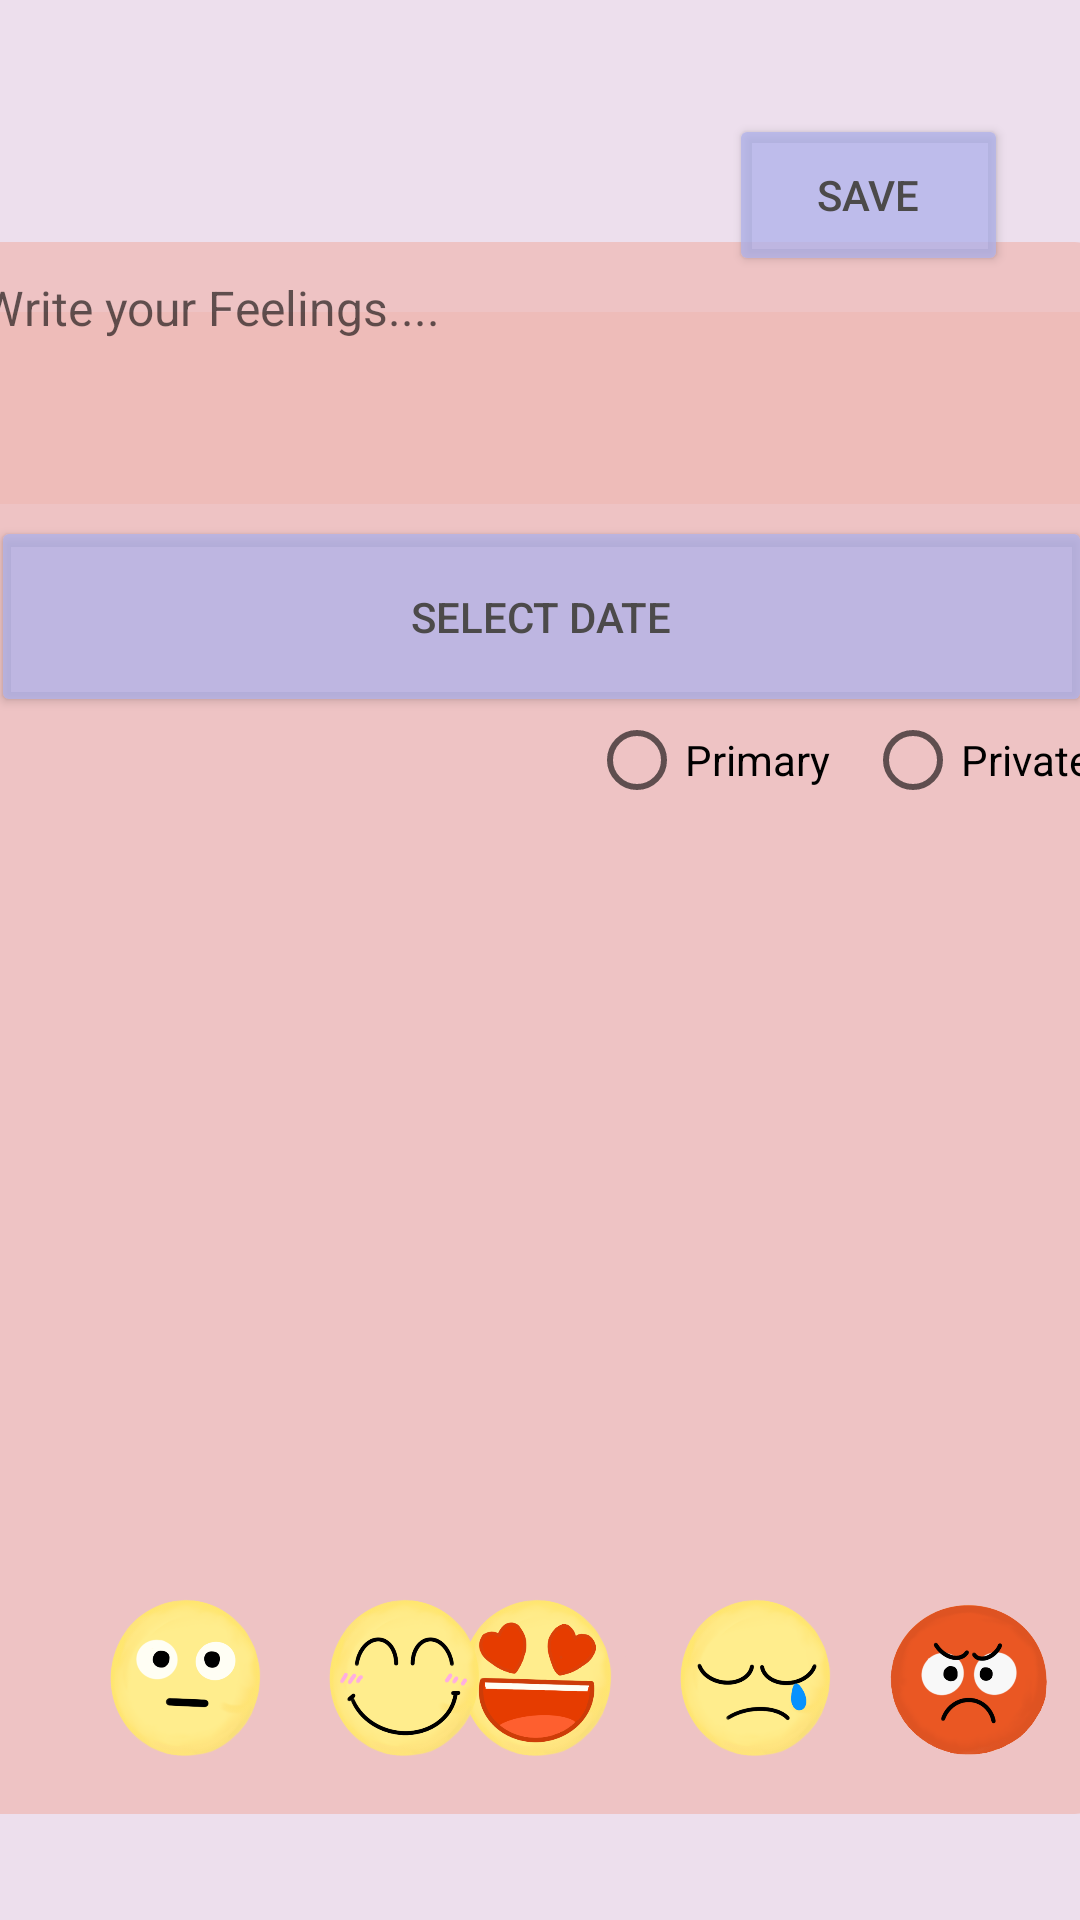

Screen size 1080x1920. Icon name, then its box in pixels as (x1=x1, y1=y1, x2=x2, y2=y2):
mad: (x1=891, y1=1605, x2=1047, y2=1755)
neutral: (x1=111, y1=1600, x2=260, y2=1756)
sad: (x1=681, y1=1600, x2=830, y2=1756)
